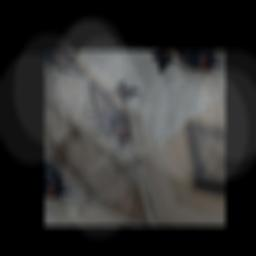Swallow: (69, 62, 163, 153)
